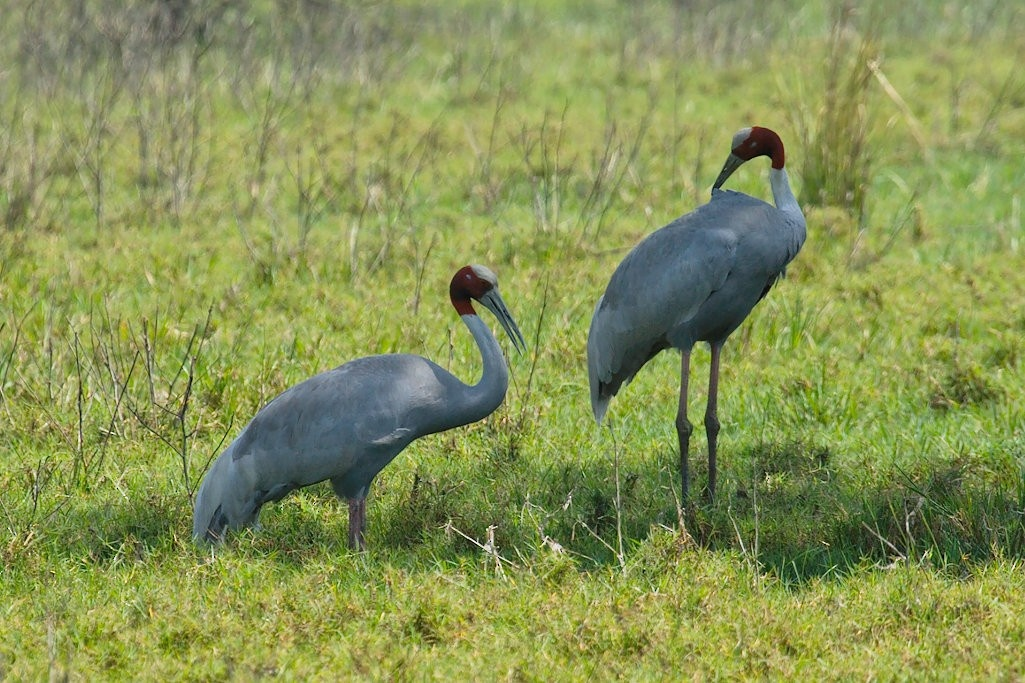crane: (195, 258, 525, 553), (586, 108, 805, 547)
